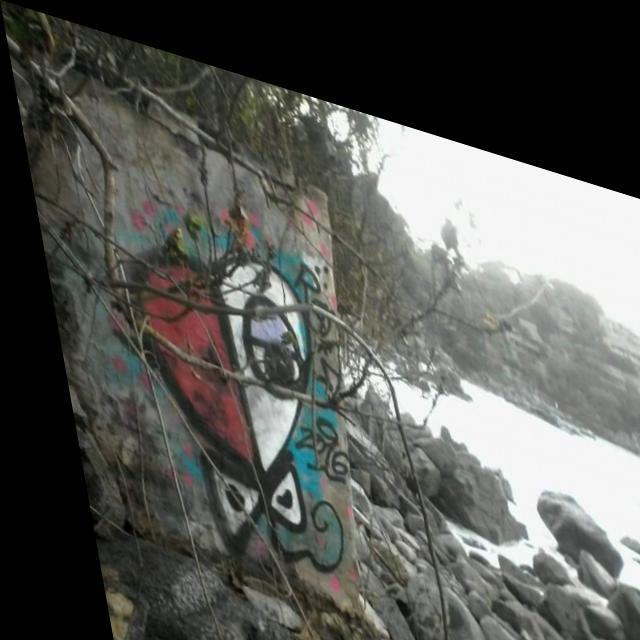-: (94, 204, 332, 576), (283, 235, 347, 402), (274, 388, 346, 484)
